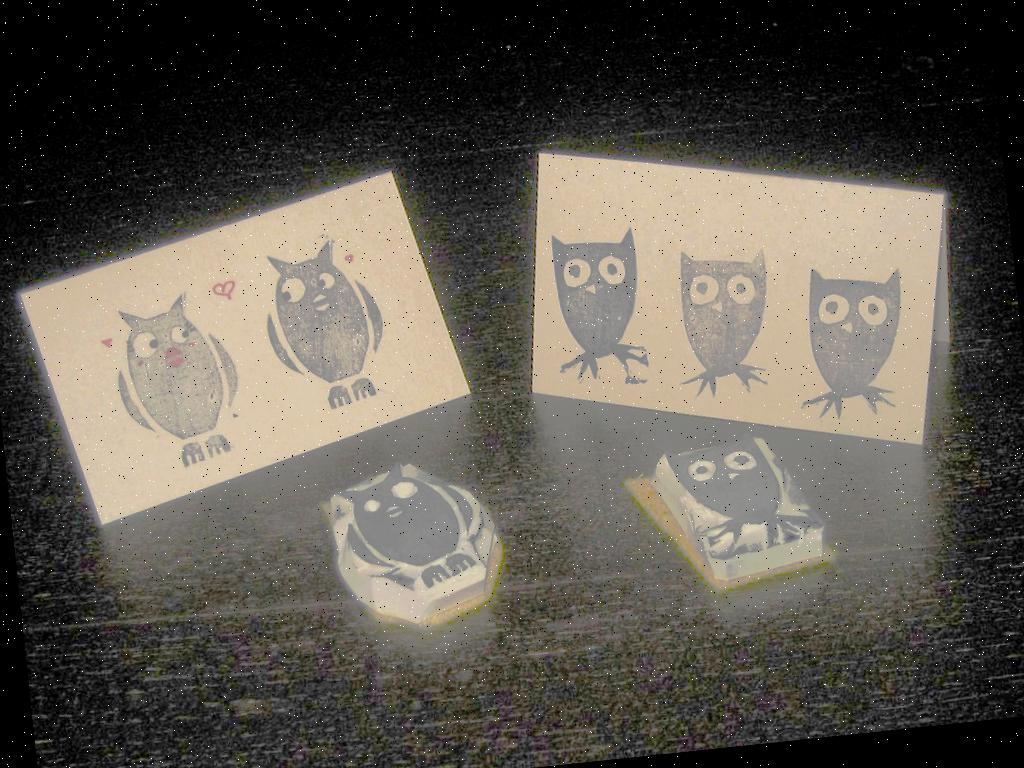Owl: (106, 288, 254, 476), (254, 232, 391, 416), (654, 430, 822, 566), (786, 262, 914, 426), (348, 452, 495, 592), (544, 231, 654, 394), (664, 248, 776, 396)
